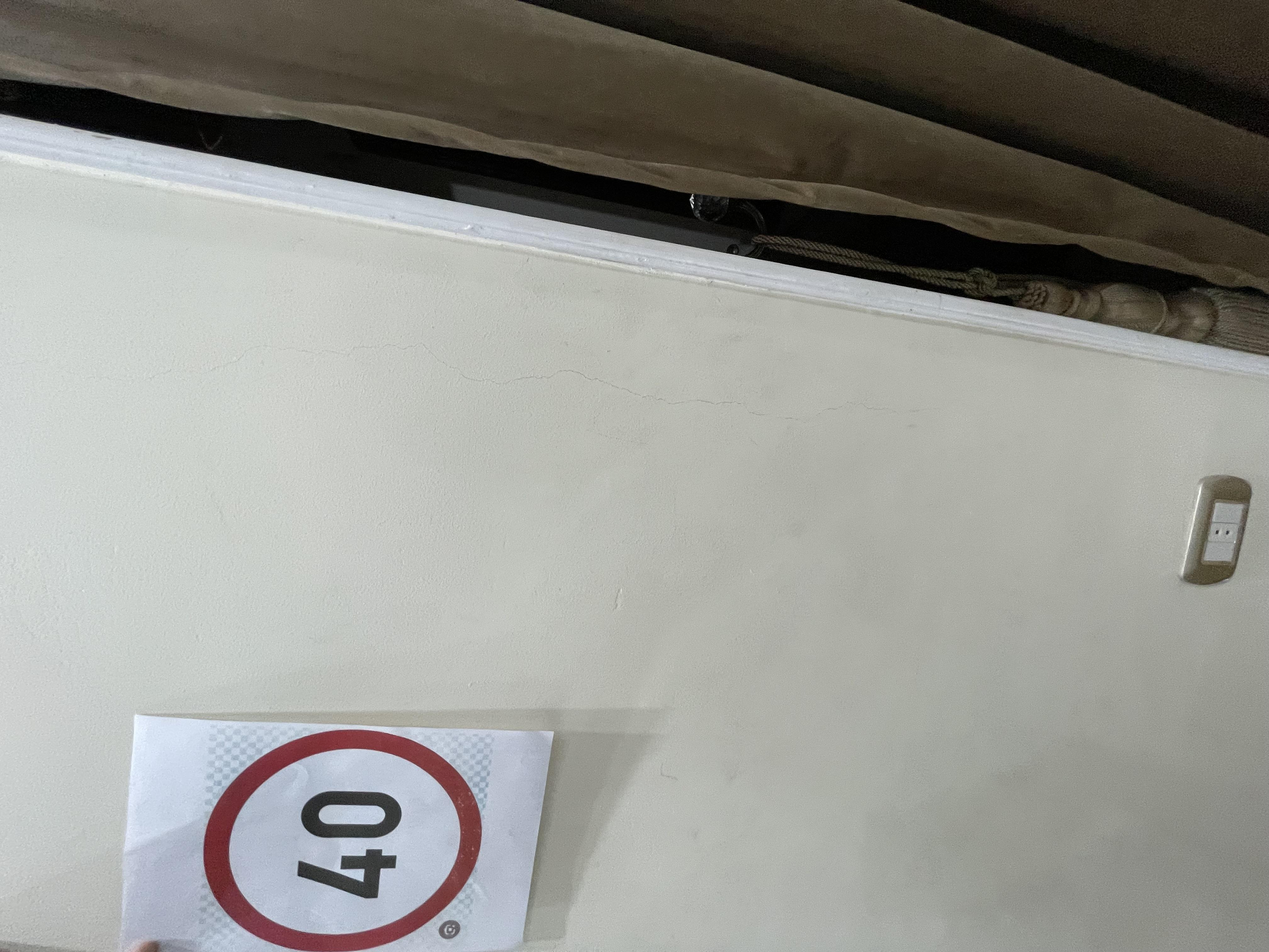40-Speed: (0, 150, 297, 362)
